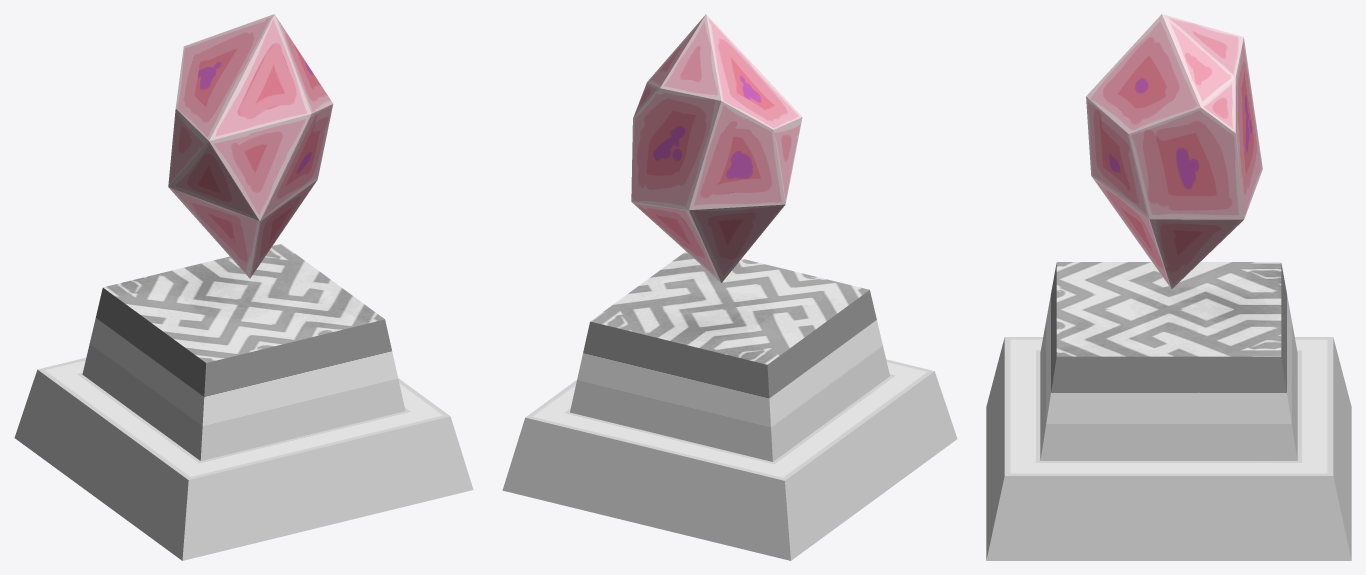
The model's file is teleportCrystal_MESH.fbx.
The picture shows the model from 3 angles, left to right: view 1: azimuth 30°, elevation 25°; view 2: azimuth 150°, elevation 25°; view 3: azimuth 270°, elevation 25°; orthographic projection. The views are drawn at different scales.
Parts seen in each view (by area): view 1: Fountain1, Crystal; view 2: Fountain1, Crystal; view 3: Fountain1, Crystal.
Part boxes in pixels (x1,y1,x2,y2): Fountain1: (14,244,473,560); Crystal: (168,14,333,278); Fountain1: (502,251,957,560); Crystal: (631,14,802,282); Fountain1: (986,262,1351,560); Crystal: (1086,14,1262,289).
Size of the model in its own units: 1 by 1.46 by 1.
